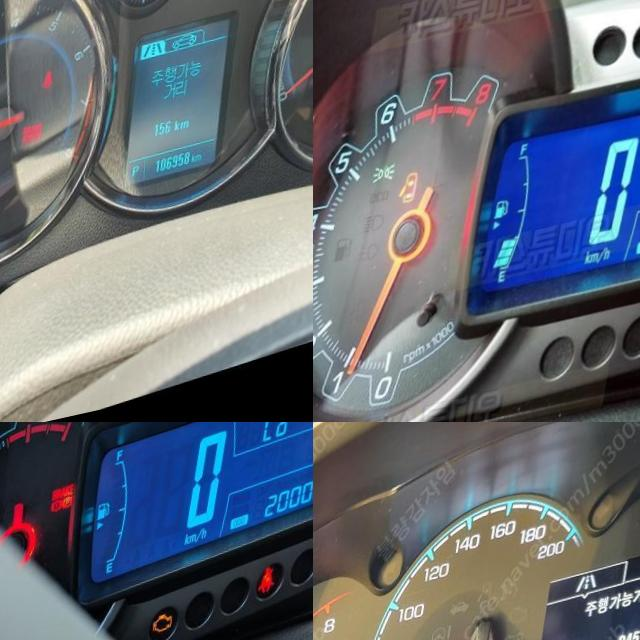Doors: (408, 179, 431, 214)
SideLamp: (381, 169, 406, 192)
